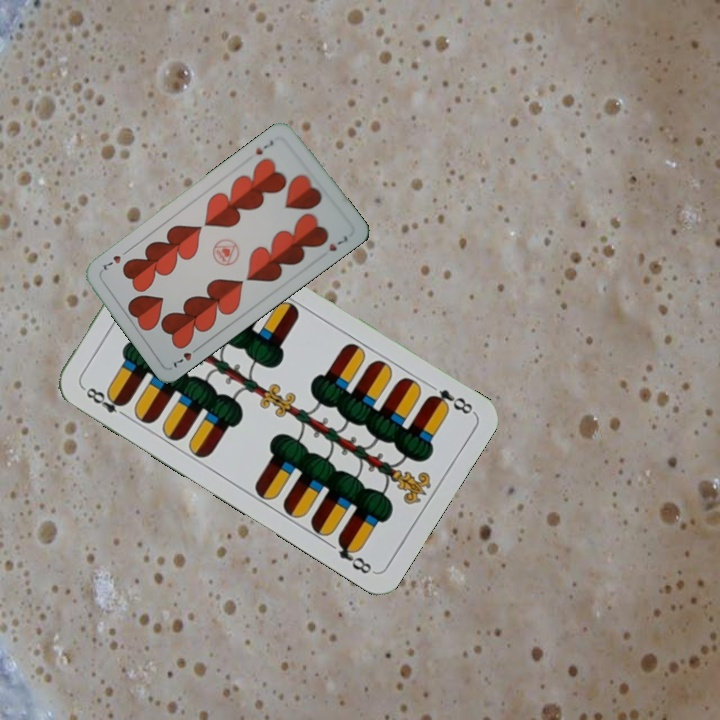E8: (79, 382, 131, 421), (423, 385, 477, 417)
H7: (167, 342, 203, 370), (251, 136, 276, 158)
